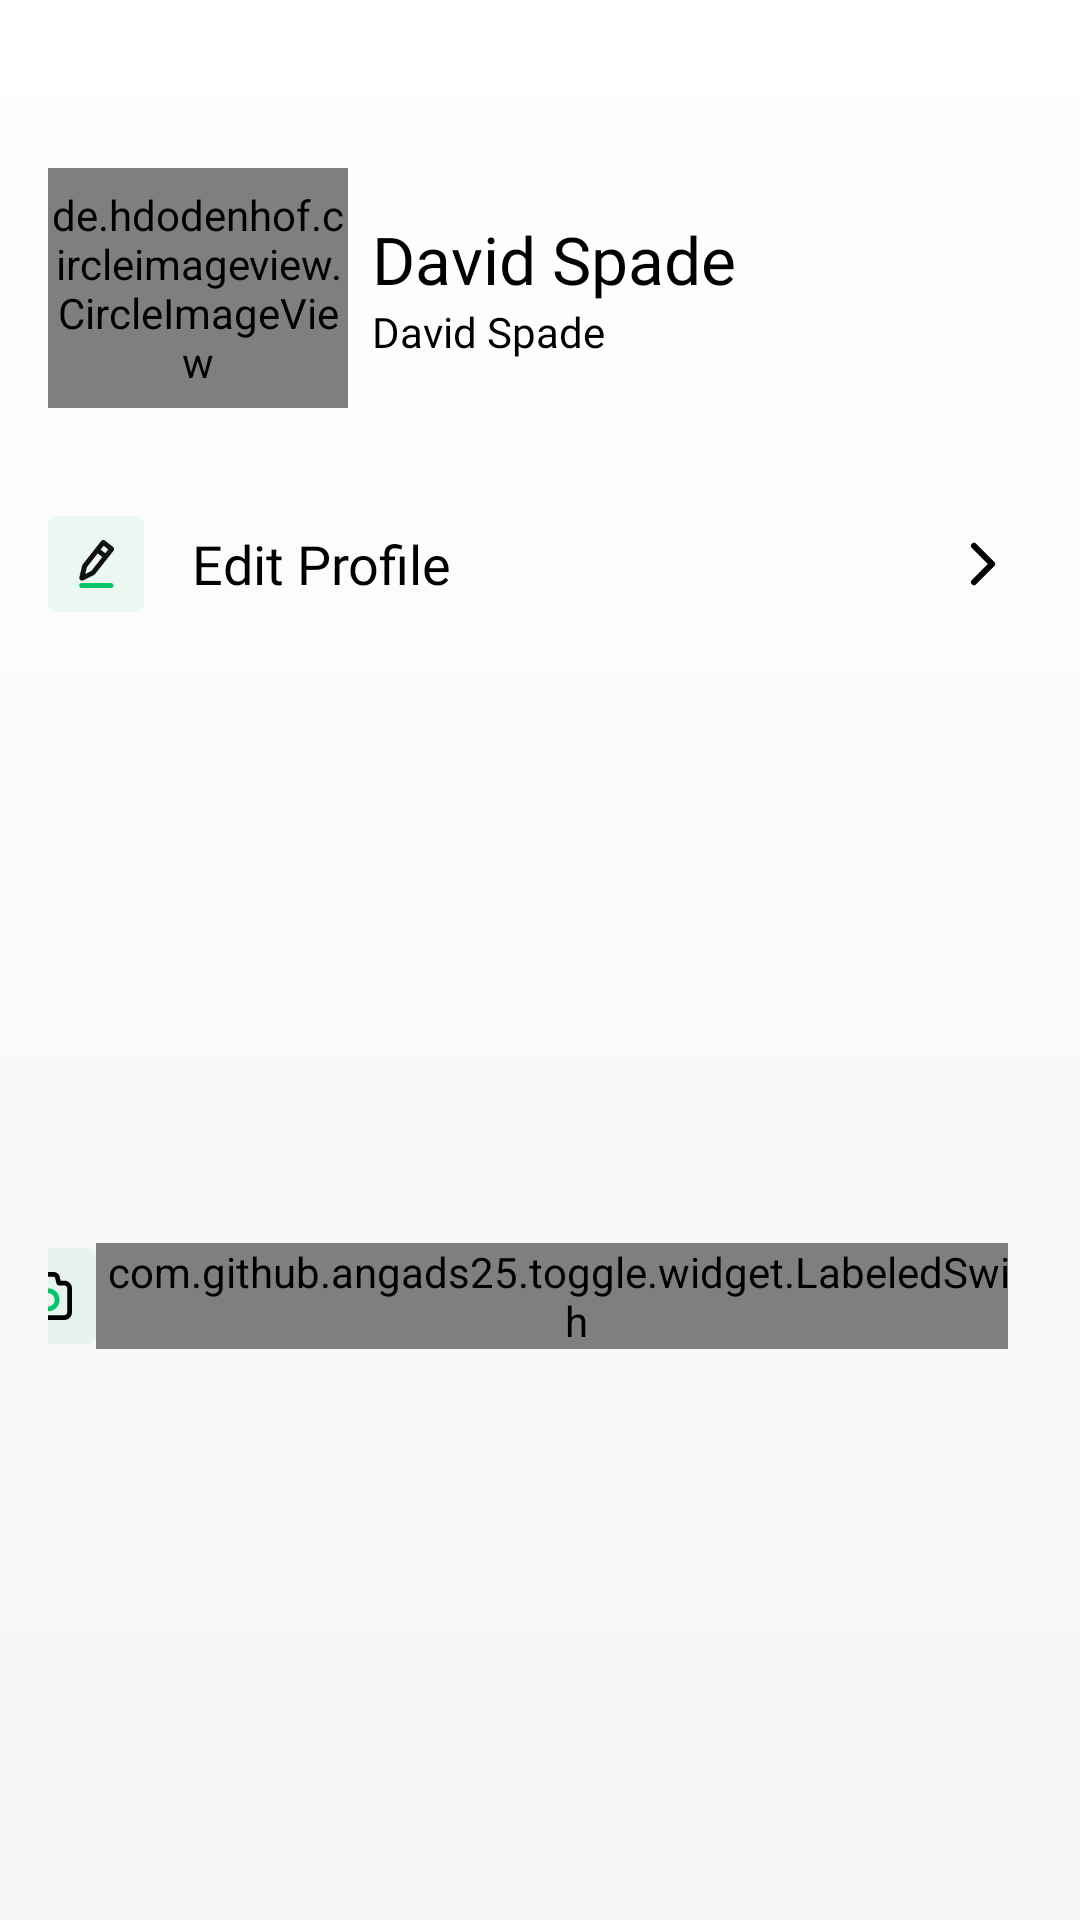

Where to tap for icons on this 1080 x 1920 app screen, as (x=x, y=y):
arrow right: (x=983, y=564)
